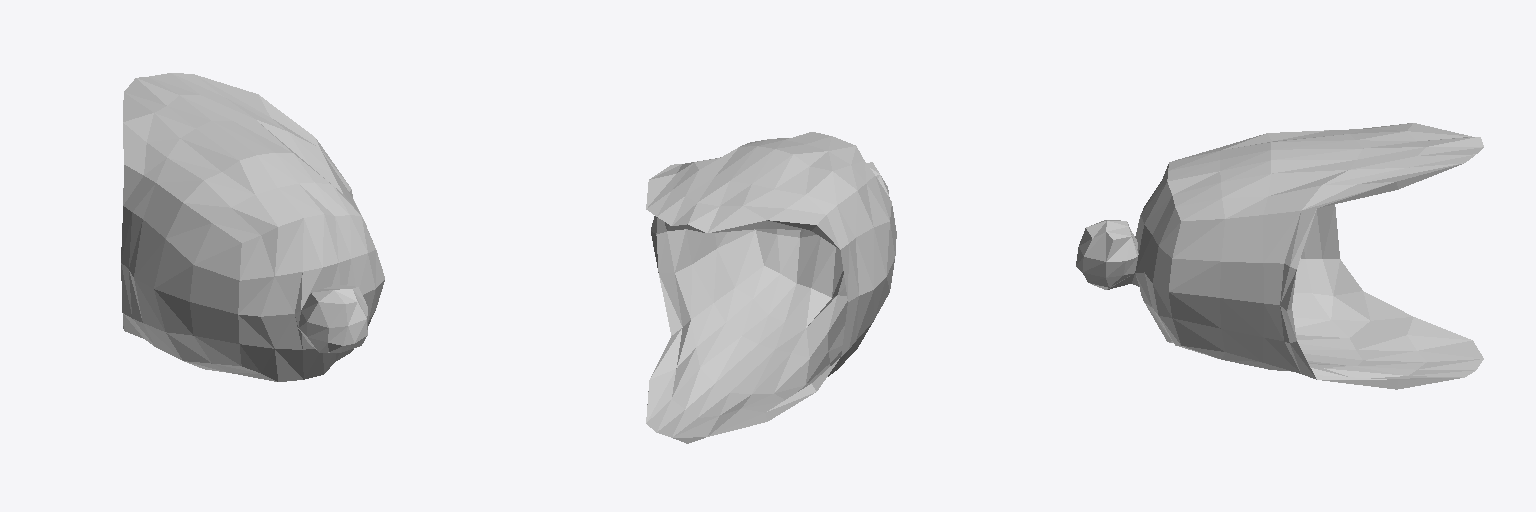
Rendered from beanie_cap_sparse.obj.
3 views of the same model, side by side, from view 1: azimuth 30°, elevation 25°; view 2: azimuth 150°, elevation 25°; view 3: azimuth 270°, elevation 25° (orthographic).
Bounding box in the file's own units: 0.1812 × 0.1666 × 0.2811.